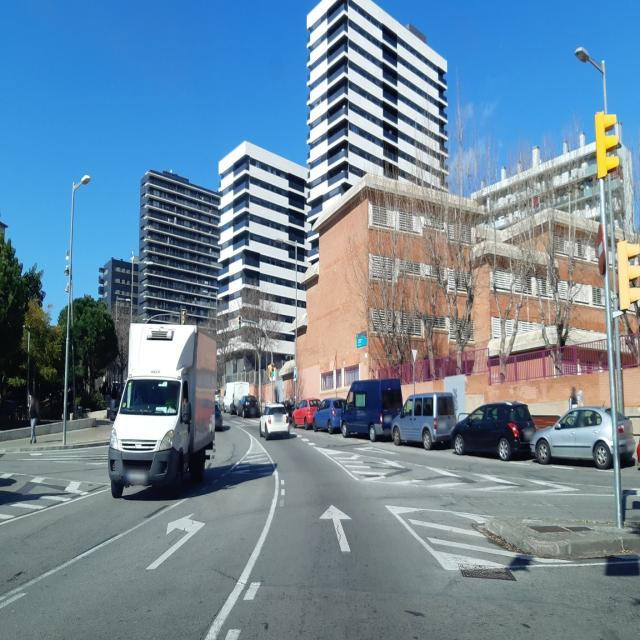car: (108, 320, 217, 499), (532, 405, 636, 469), (451, 400, 537, 460), (391, 391, 457, 450), (341, 377, 402, 440), (312, 397, 346, 432), (259, 403, 290, 439), (292, 397, 321, 429), (237, 394, 261, 418), (214, 400, 224, 431), (229, 399, 238, 415)
